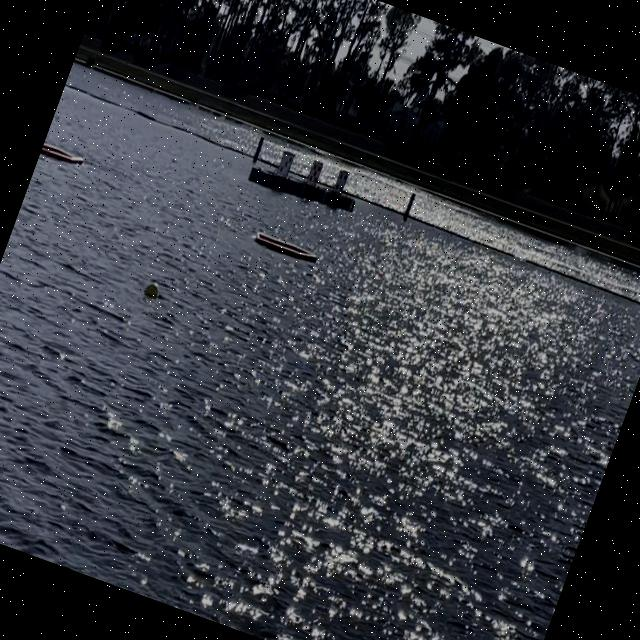buoy: (130, 262, 176, 318)
